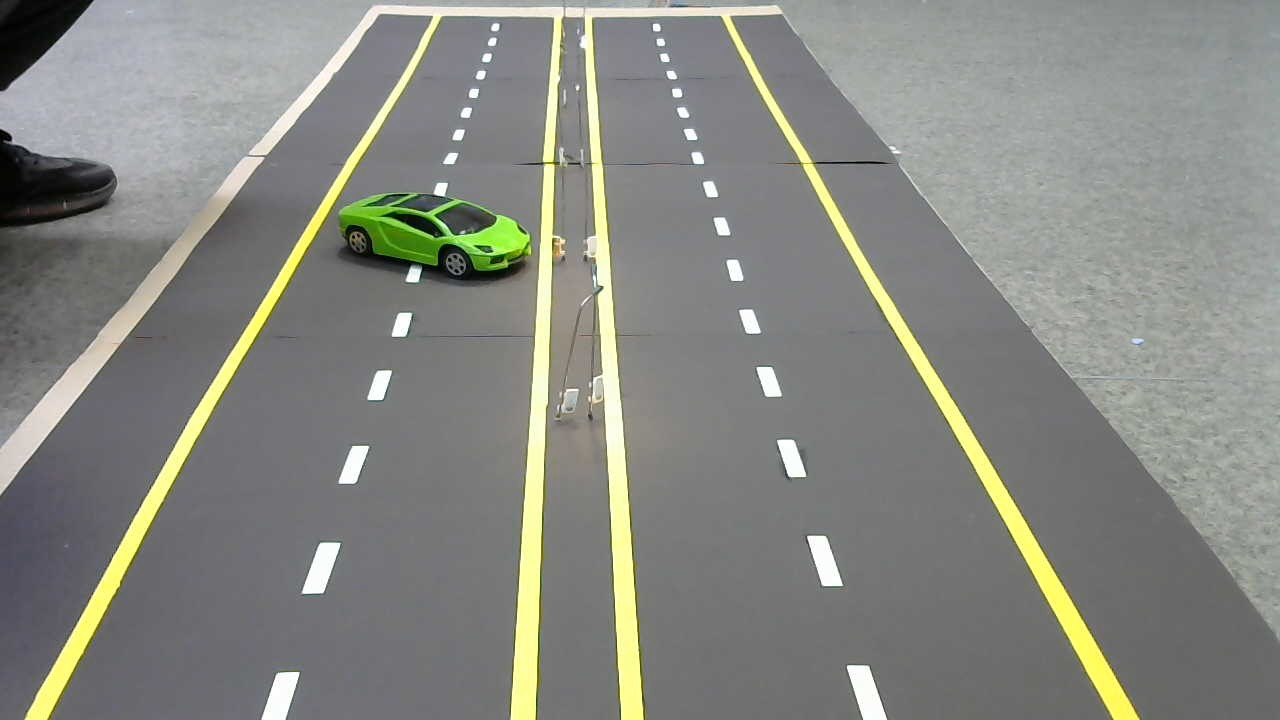overturn_car: (336, 187, 534, 292)
